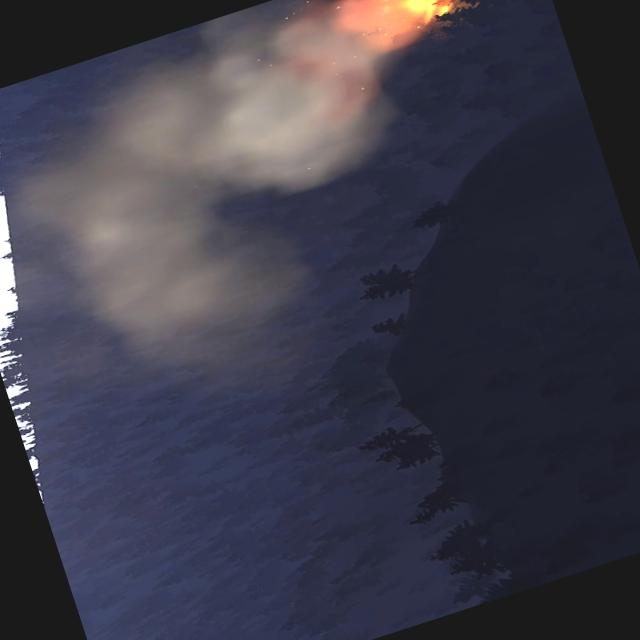fire: (375, 0, 486, 36)
smoke: (0, 0, 466, 395)
